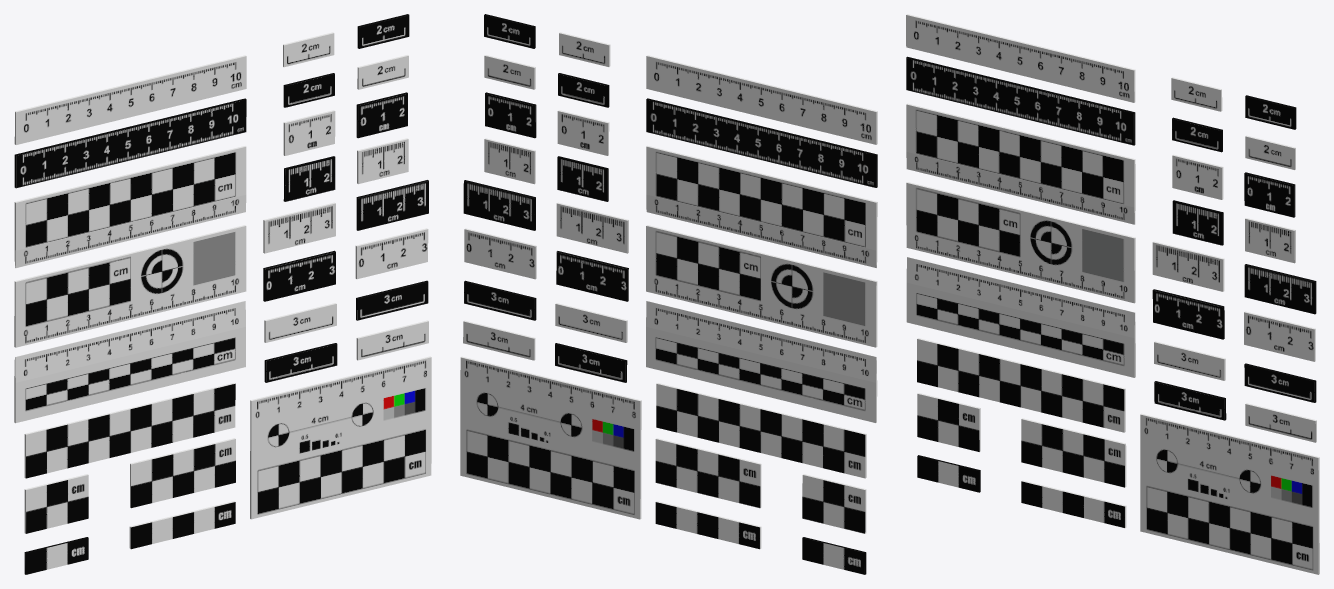
The picture shows the model from 3 angles, left to right: view 1: azimuth 30°, elevation 25°; view 2: azimuth 150°, elevation 25°; view 3: azimuth 330°, elevation 25°; orthographic projection.
Visible parts, largest first — view 1: Cube.010, Cube.003, Cube.005, Cube.002, Cube.004, Cube, Cube.001, Cube.006, Cube.007, Cube.011, Cube.009, Cube.014 (+15 smaller); view 2: Cube.010, Cube.003, Cube.005, Cube.002, Cube.004, Cube, Cube.001, Cube.006, Cube.007, Cube.009, Cube.011, Cube.012 (+15 smaller); view 3: Cube.010, Cube.003, Cube.005, Cube.002, Cube.004, Cube.001, Cube, Cube.006, Cube.007, Cube.014, Cube.013, Cube.009 (+15 smaller).
Boxes of the visible parts, x1=… form: Cube.010: x1=250, y1=356, x2=431, y2=519; Cube.003: x1=14, y1=225, x2=246, y2=347; Cube.005: x1=14, y1=146, x2=246, y2=268; Cube.002: x1=14, y1=301, x2=245, y2=423; Cube.004: x1=24, y1=383, x2=235, y2=478; Cube: x1=14, y1=98, x2=246, y2=188; Cube.001: x1=14, y1=55, x2=246, y2=144; Cube.006: x1=130, y1=438, x2=235, y2=508; Cube.007: x1=24, y1=474, x2=88, y2=533; Cube.011: x1=355, y1=228, x2=428, y2=279; Cube.009: x1=129, y1=501, x2=235, y2=549; Cube.014: x1=263, y1=202, x2=335, y2=253; Cube.010: x1=460, y1=356, x2=641, y2=519; Cube.003: x1=646, y1=225, x2=877, y2=347; Cube.005: x1=646, y1=145, x2=877, y2=267; Cube.002: x1=646, y1=301, x2=877, y2=422; Cube.004: x1=656, y1=383, x2=866, y2=478; Cube: x1=646, y1=98, x2=877, y2=187; Cube.001: x1=646, y1=55, x2=877, y2=144; Cube.006: x1=655, y1=438, x2=761, y2=508; Cube.007: x1=802, y1=474, x2=866, y2=533; Cube.009: x1=655, y1=501, x2=761, y2=549; Cube.011: x1=464, y1=228, x2=536, y2=279; Cube.012: x1=556, y1=251, x2=628, y2=301; Cube.010: x1=1140, y1=413, x2=1319, y2=574; Cube.003: x1=906, y1=182, x2=1135, y2=303; Cube.005: x1=906, y1=103, x2=1135, y2=224; Cube.002: x1=906, y1=257, x2=1135, y2=377; Cube.004: x1=917, y1=338, x2=1125, y2=432; Cube.001: x1=906, y1=14, x2=1135, y2=102; Cube: x1=906, y1=56, x2=1135, y2=145; Cube.006: x1=1021, y1=418, x2=1126, y2=487; Cube.007: x1=917, y1=393, x2=980, y2=451; Cube.014: x1=1152, y1=241, x2=1224, y2=291; Cube.013: x1=1244, y1=264, x2=1316, y2=314; Cube.009: x1=1021, y1=480, x2=1126, y2=527.
Bounding box in the file's own units: 0.1986 × 0.2131 × 0.00172.
1 material, 1 textured.
